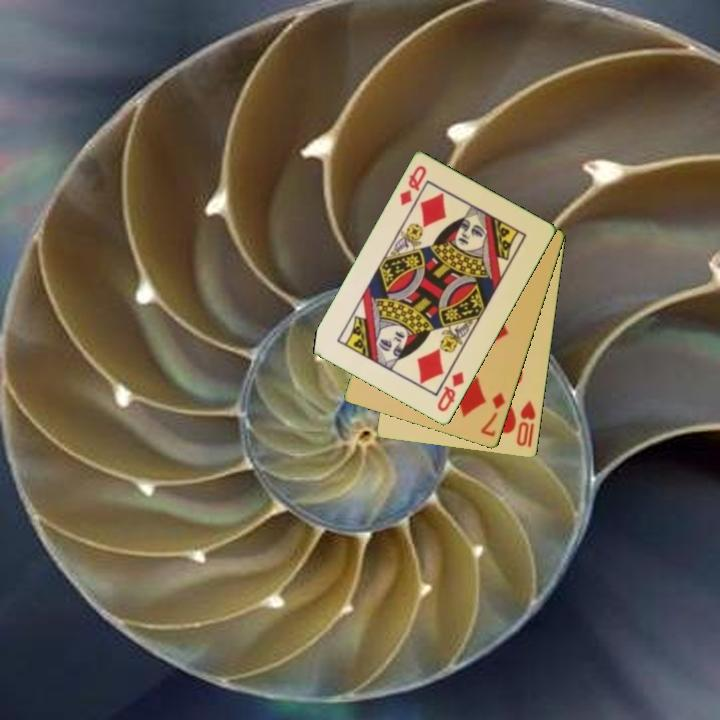10h: (513, 397, 539, 450)
7d: (477, 389, 508, 440)
Qd: (396, 162, 430, 209), (434, 368, 467, 415)
